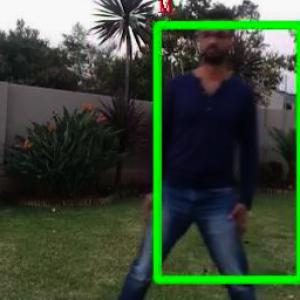follow: (152, 3, 266, 299)
